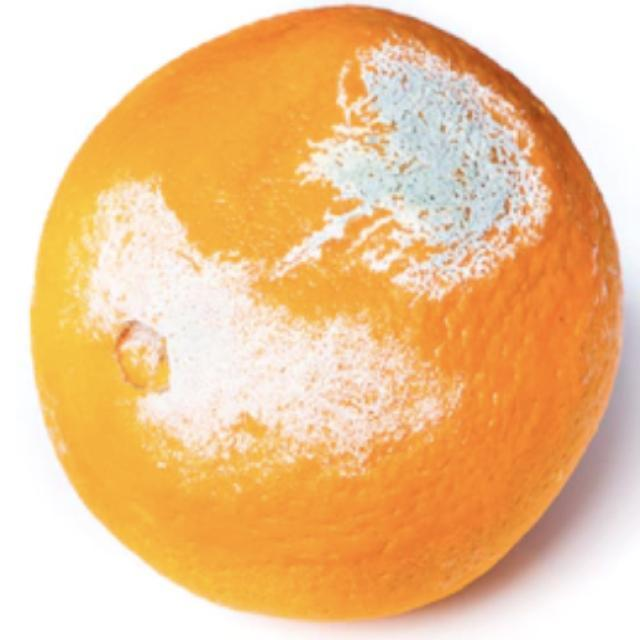sedikit-busuk: (31, 8, 621, 617)
